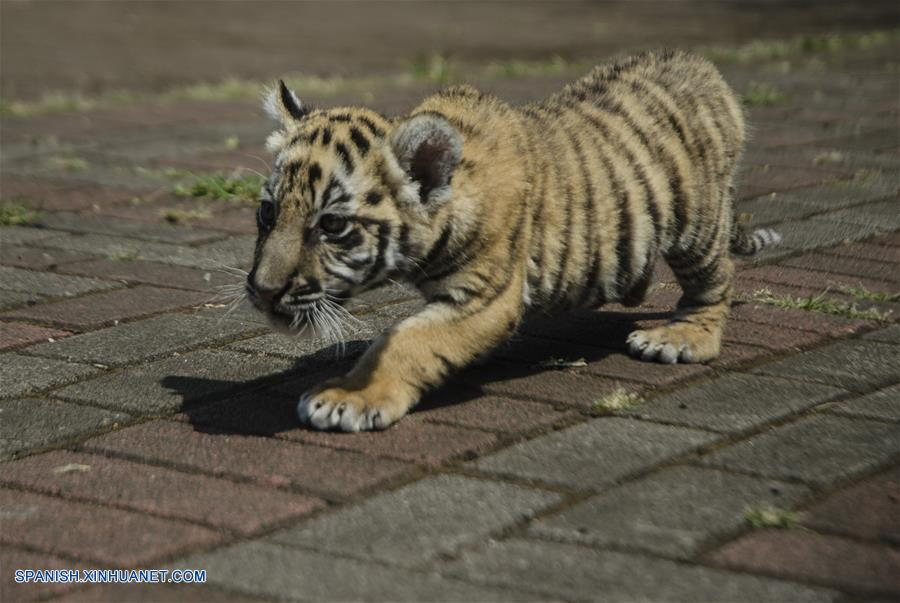Tigrew: (230, 32, 808, 421)
